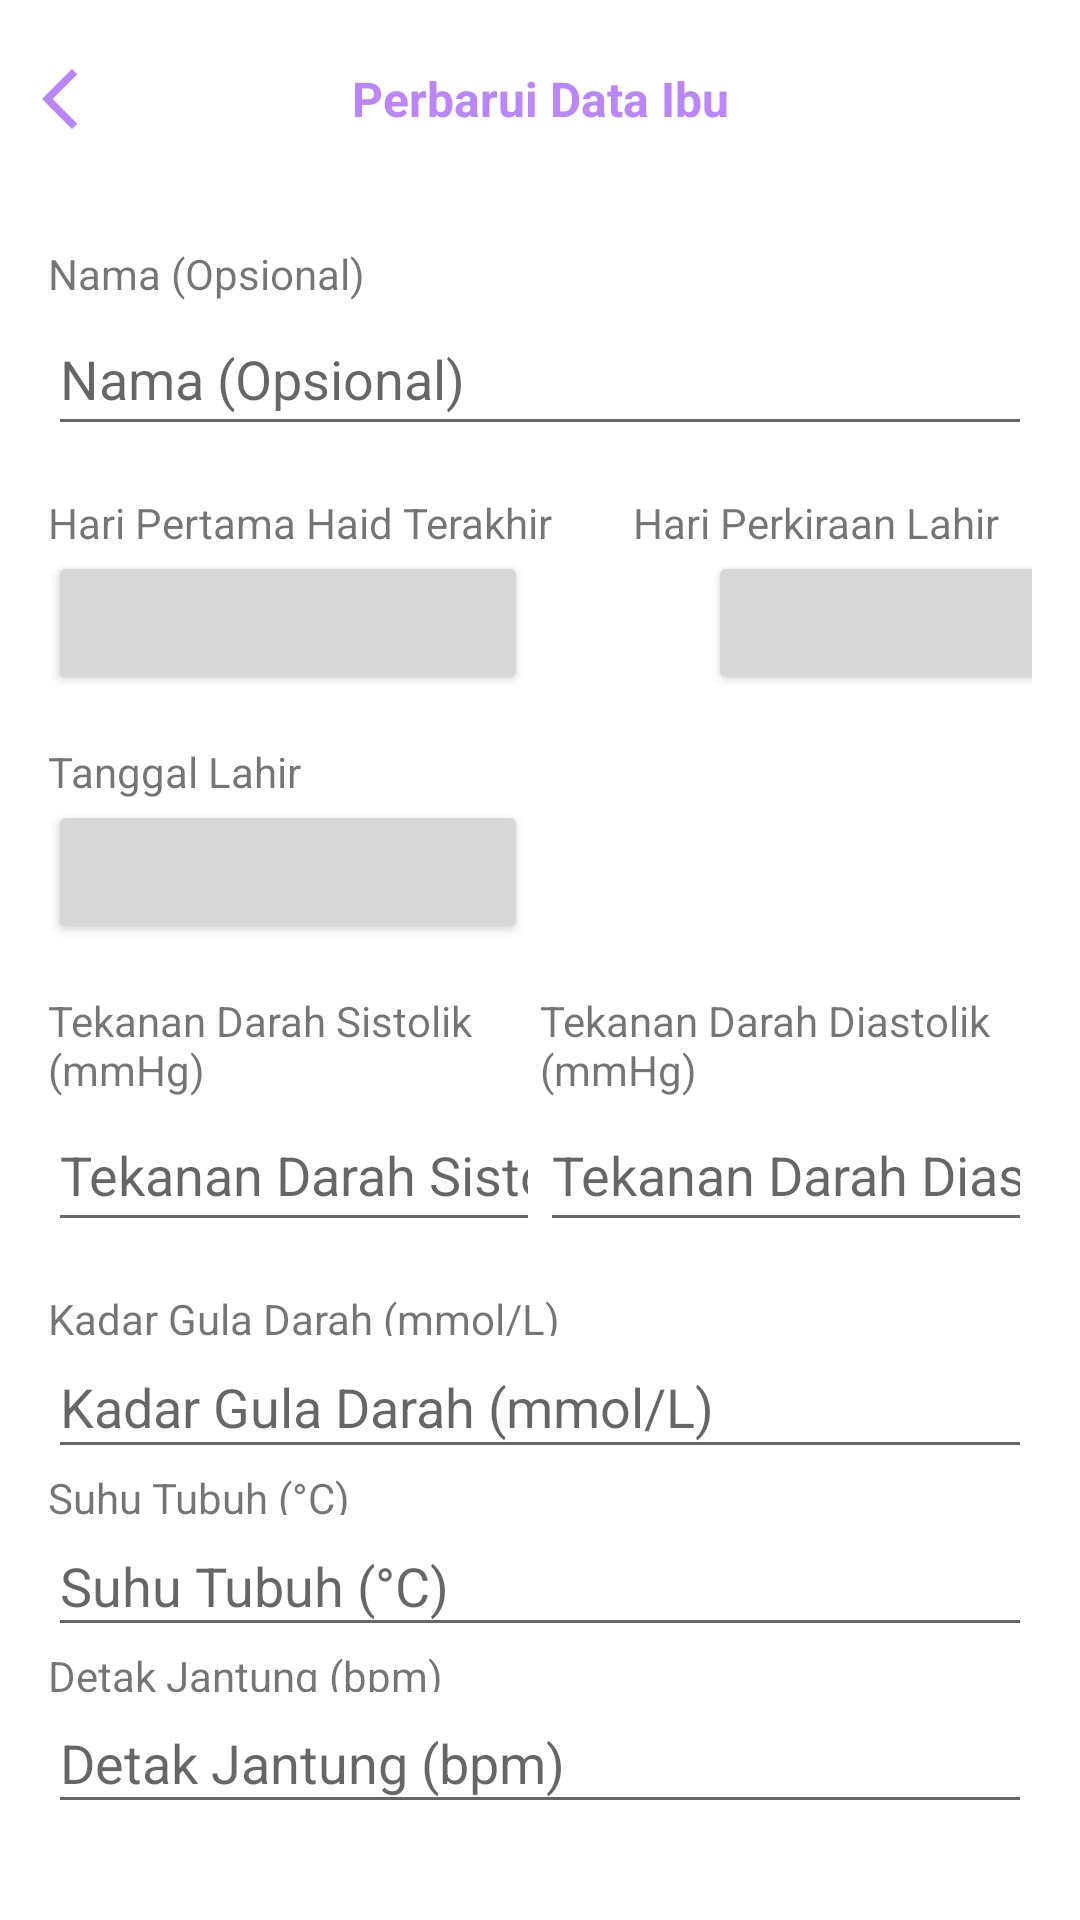

Named icons in this screenshot (1080 × 1920) and their centers, (x=x, y=y):
back: (x=59, y=99)
